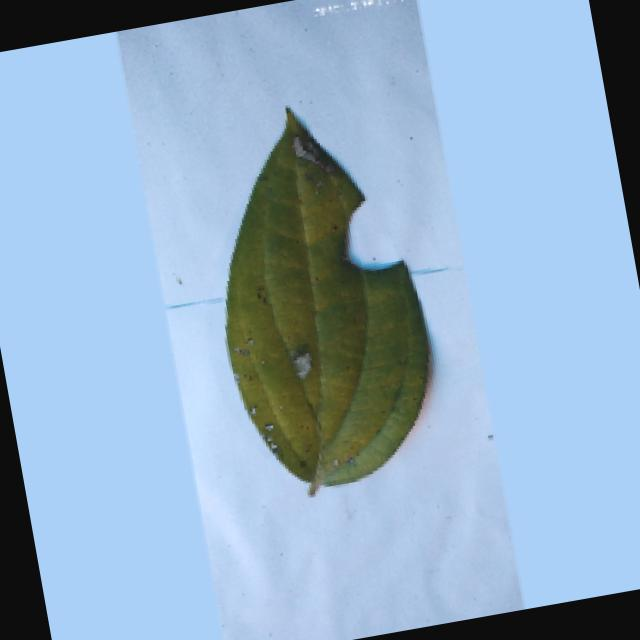slow-decline: (182, 90, 452, 510)
